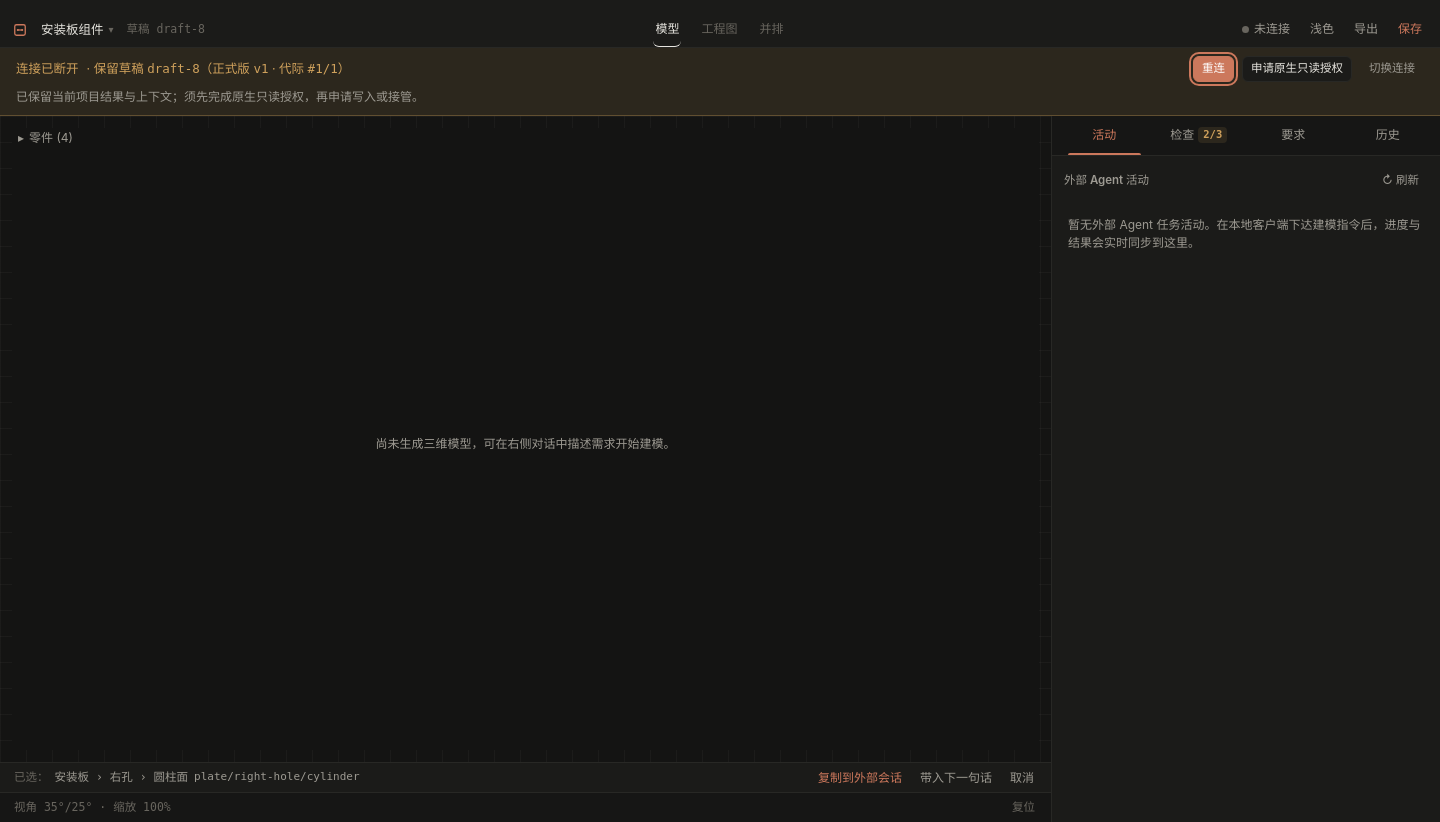
Test: 寸链 v2 GUI 工作台专项验收（极简工作流、渐进披露、双主题、悬浮引用条与零参数表红线） › 36px 一体化顶栏集成项目菜单完整触达导入、模板、模式切换、只读视图与旧工作台
Expected: the header named "顶部连接状态栏" shows "草稿 draft-8", top-left (126, 22), bottom-right (205, 36)
Expected: the link "只读授权视图" is not shown
// 打开左侧「项目名 ▾」集成项目菜单验证全部入口可达
Step 1. Click the button with test id "more-menu-btn" → point(77, 30), box top-left (34, 18), bottom-right (120, 41)
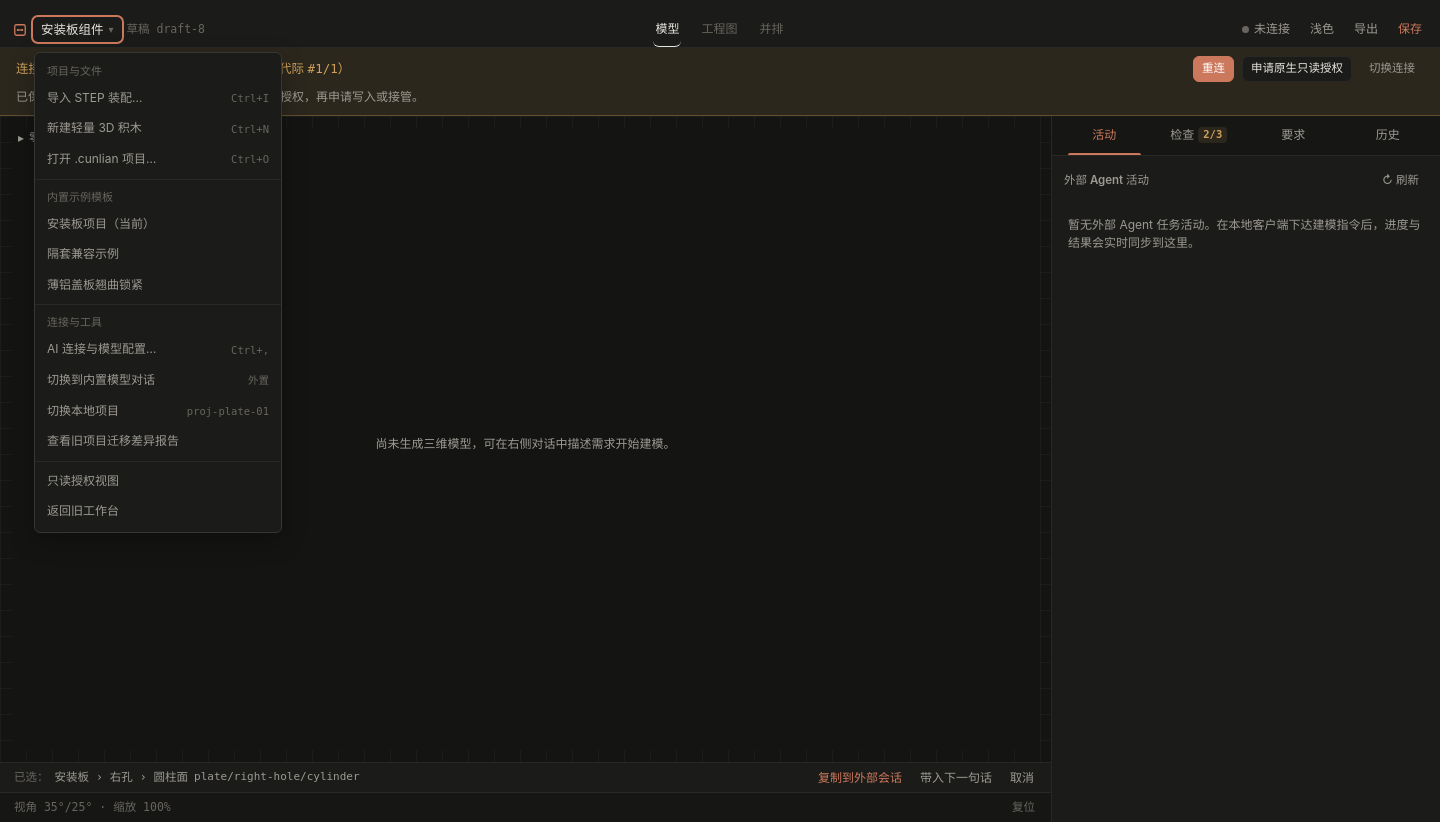
Expected: the menu item "切换本地项目 proj-plate-01" is shown, top-left (35, 396), bottom-right (281, 426)
// 菜单内切换工作模式同步驱动右侧栏
Step 2. Click the menu item "切换到内置模型对话 外置" → point(158, 380), box top-left (35, 365), bottom-right (281, 396)
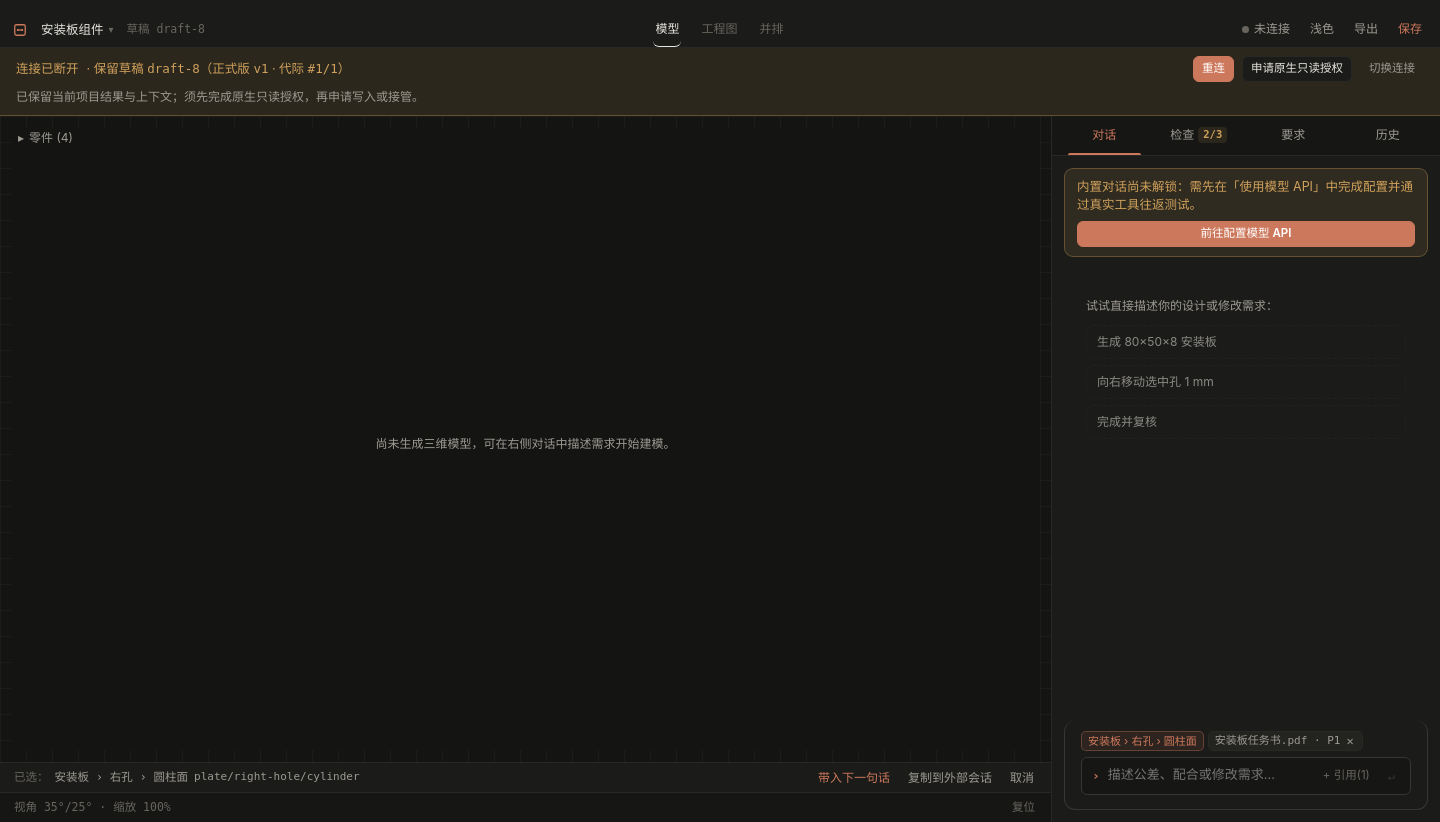
Expected: the element named "内置模式多轮对话侧栏" is shown, top-left (1064, 168), bottom-right (1428, 810)
Step 3. Click the button with test id "more-menu-btn" → point(77, 30), box top-left (34, 18), bottom-right (120, 41)
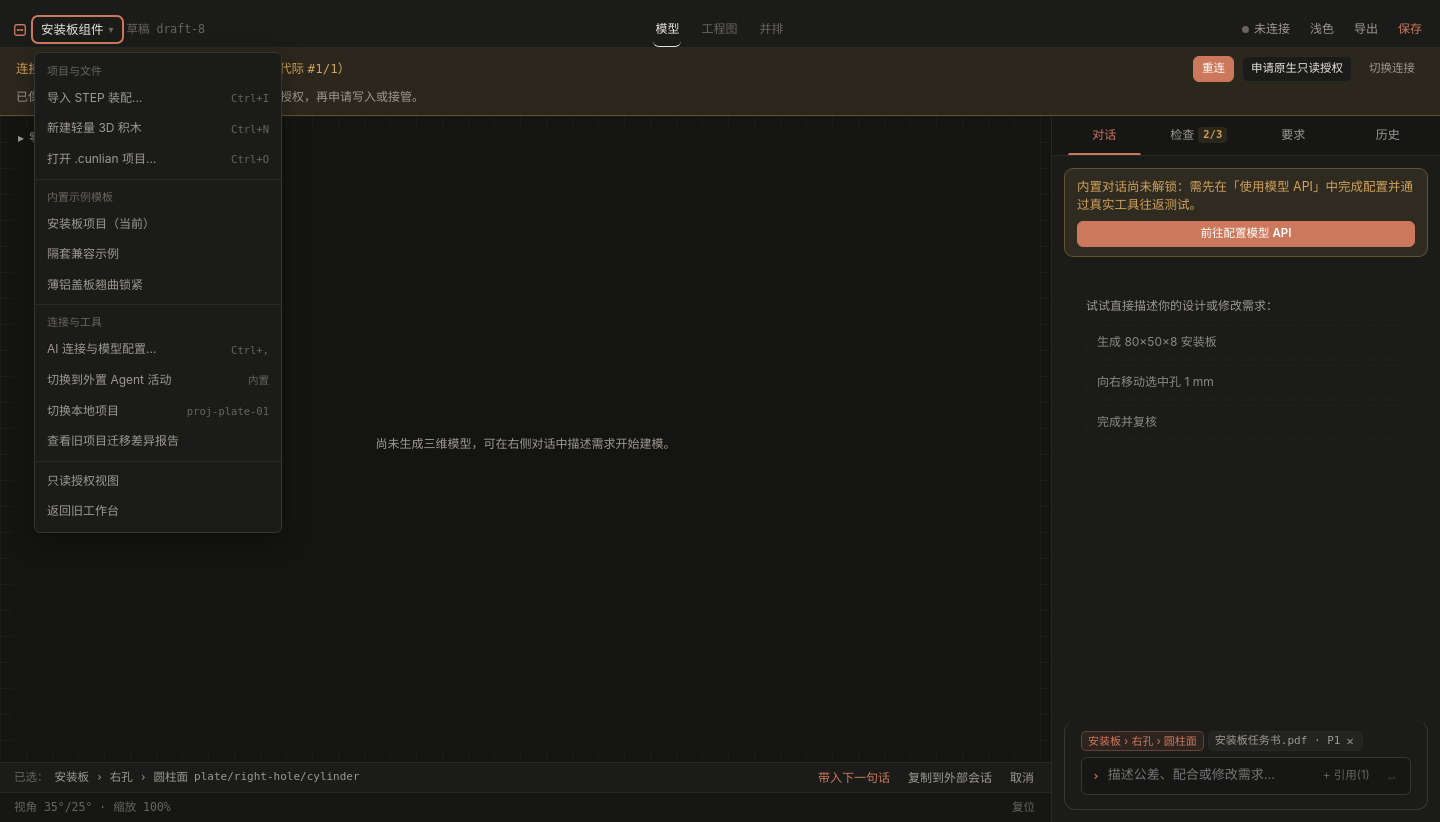
Step 4. Click the menu item "切换到外置 Agent 活动 内置" → point(158, 380), box top-left (35, 365), bottom-right (281, 396)
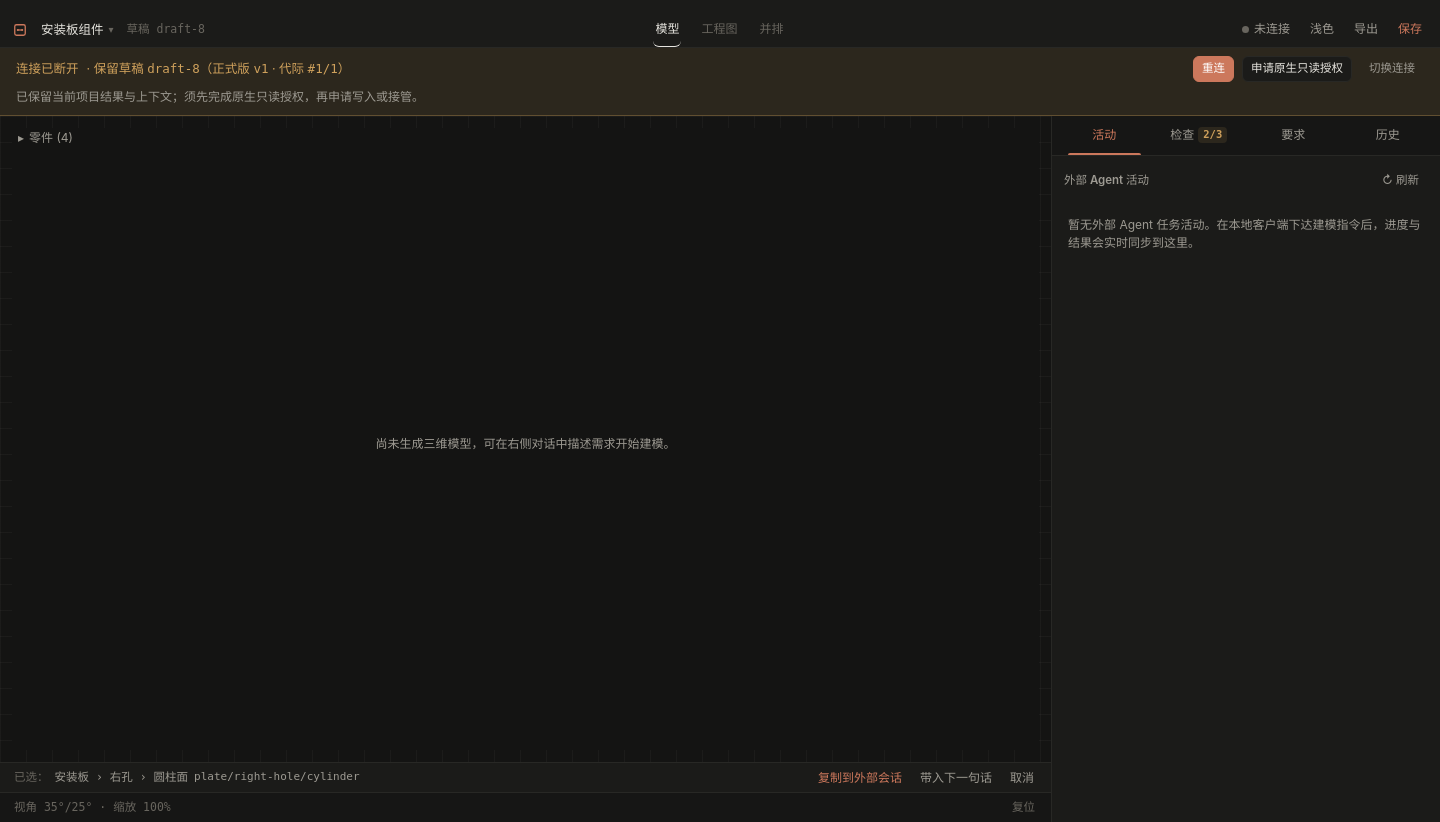
Expected: the element named "外置模式任务活动侧栏" is shown, top-left (1064, 168), bottom-right (1428, 266)
